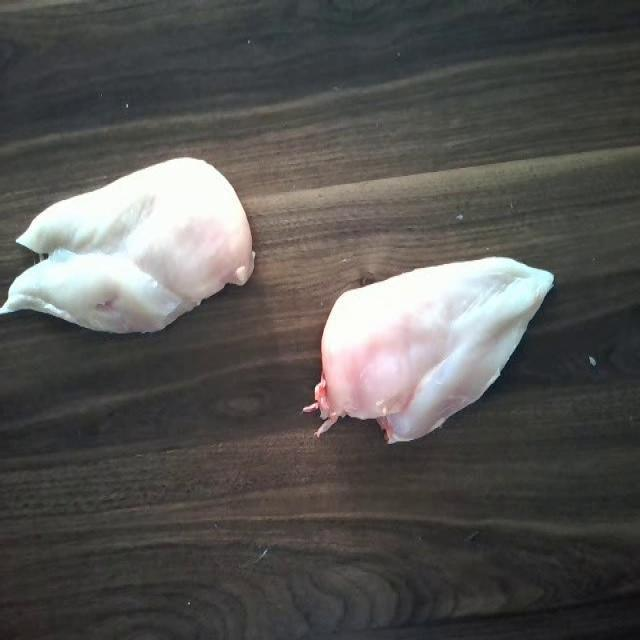breast: (318, 256, 556, 449), (3, 156, 258, 329)
